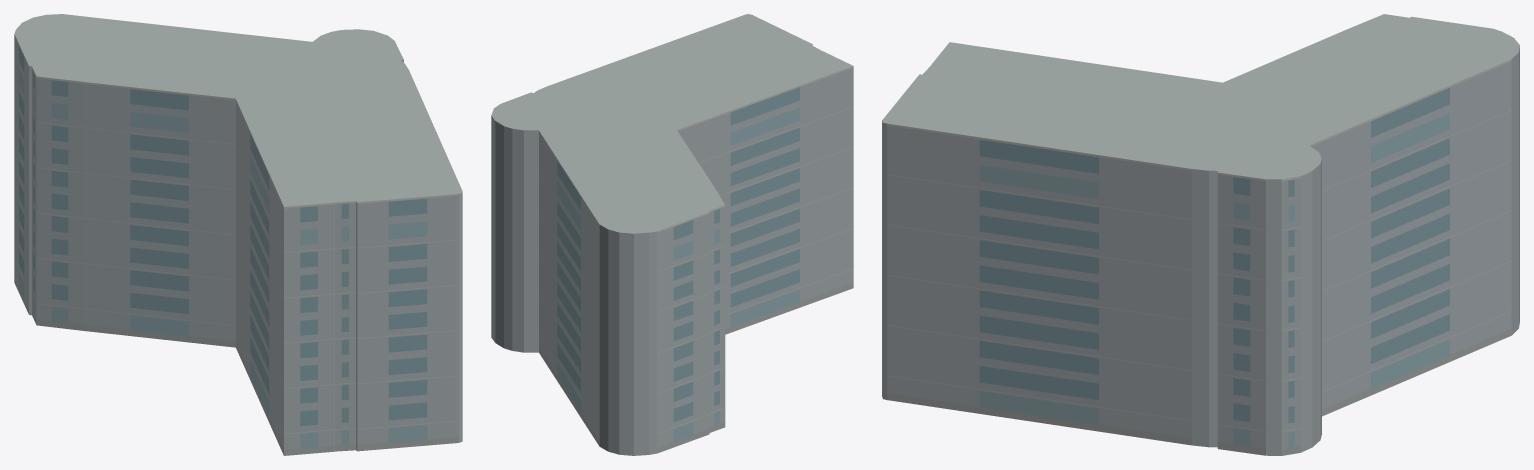
Rendered from survey-upis-32979587.glb.
The picture shows the model from 3 angles, left to right: view 1: azimuth 30°, elevation 25°; view 2: azimuth 150°, elevation 25°; view 3: azimuth 270°, elevation 25°; orthographic projection. The views are drawn at different scales.
Visible parts, largest first — view 1: survey-upis-32979587.tmp; view 2: survey-upis-32979587.tmp; view 3: survey-upis-32979587.tmp.
Boxes of the visible parts, <box> form: survey-upis-32979587.tmp: <box>14,14,462,455</box>; survey-upis-32979587.tmp: <box>491,14,853,455</box>; survey-upis-32979587.tmp: <box>882,14,1519,455</box>.
Size of the model in its own units: 43.08 by 33.55 by 70.15.
